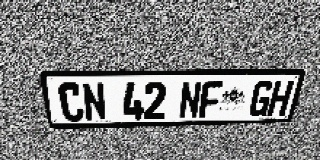2: (144, 82, 166, 120)
4: (122, 82, 144, 120)
C: (57, 82, 85, 122)
F: (198, 81, 223, 118)
G: (248, 80, 275, 117)
H: (266, 80, 295, 116)
N: (81, 82, 107, 121), (179, 81, 202, 119)
